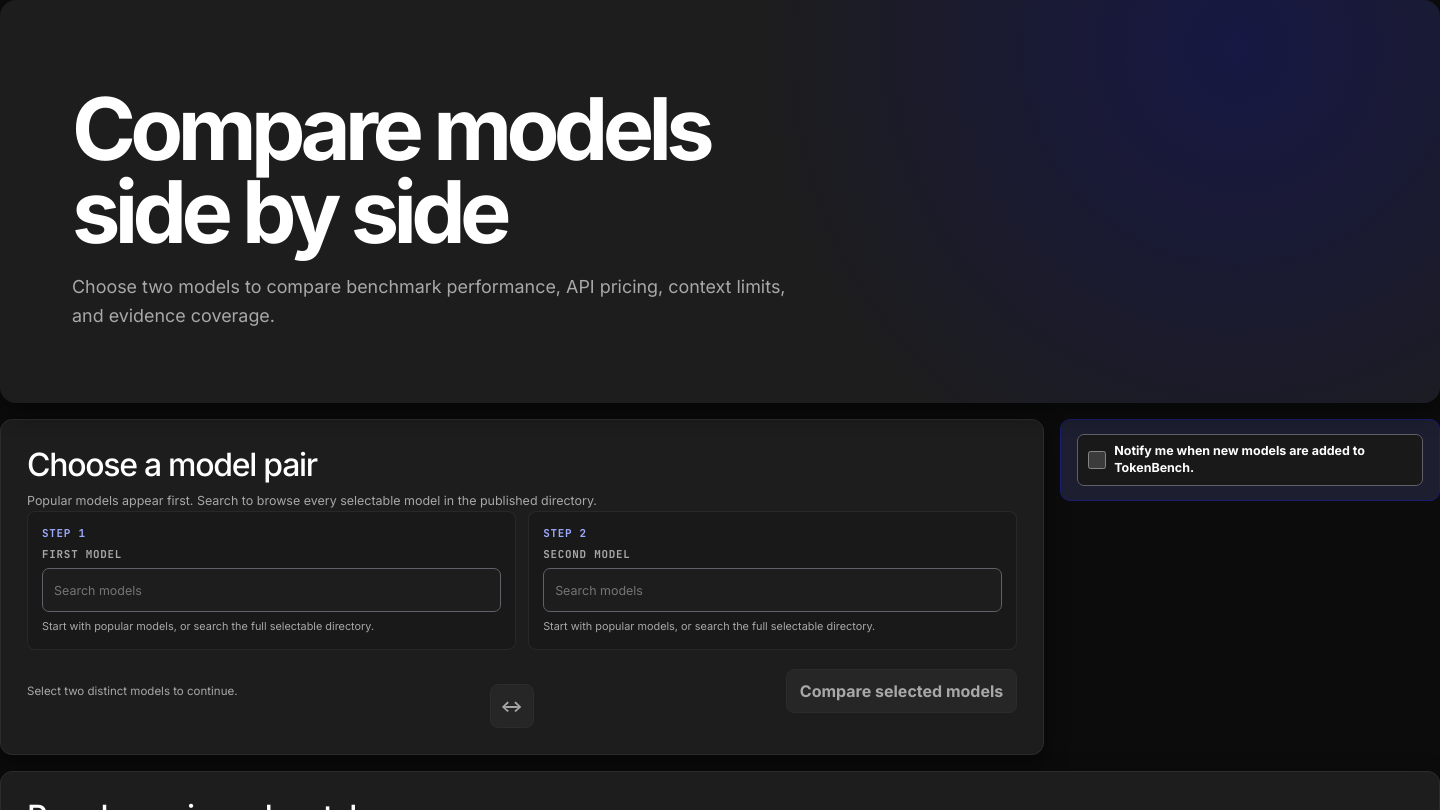
Test: compare hub › does not create a comparison navigation target until two distinct known models are selected
Type "model-a" into the dropdown labelled "First model" at (272, 590), box [42,568,501,612]
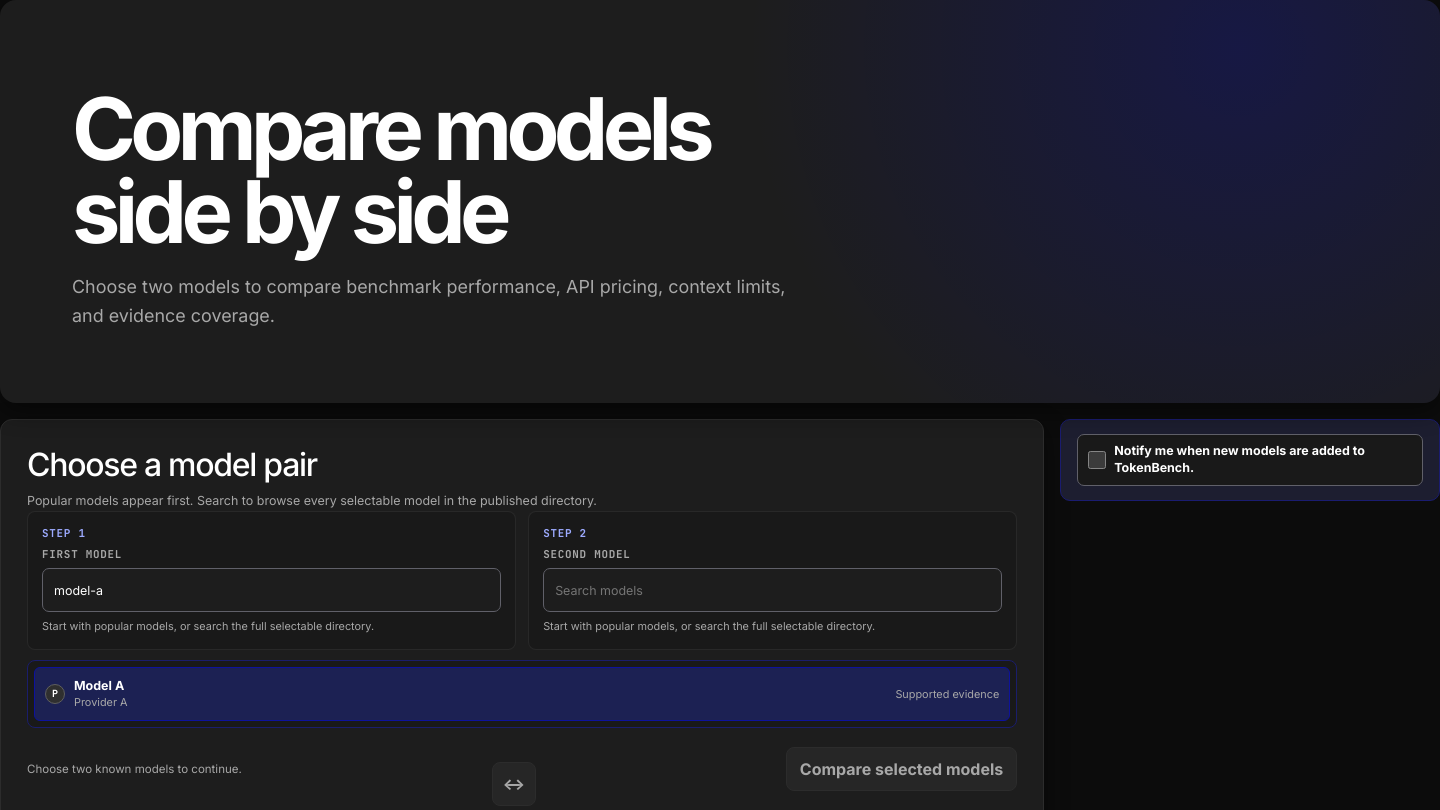
Type "model-a" into the dropdown labelled "Second model" at (773, 590), box [543,568,1002,612]
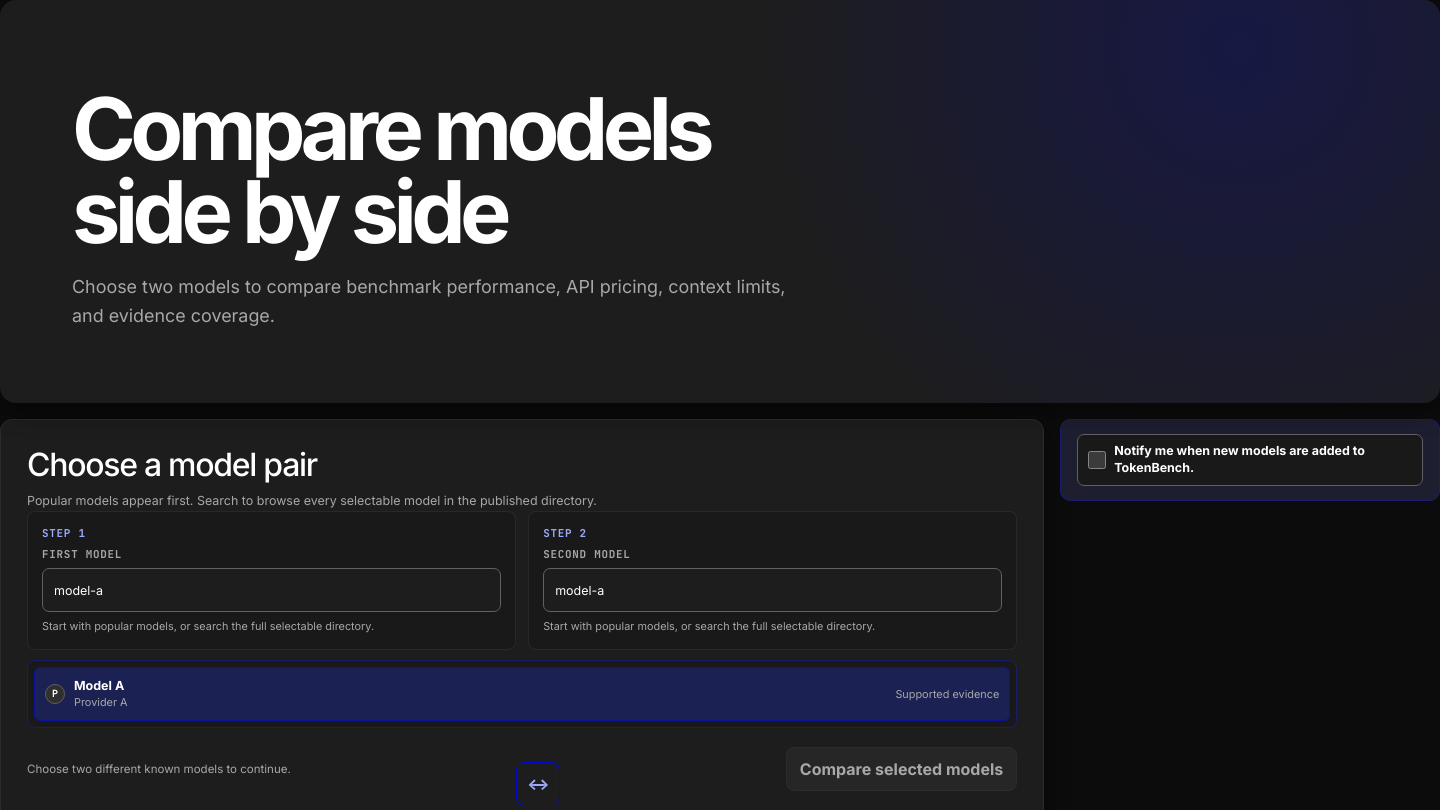
Result: the text "Choose two different known models to continue." is shown at [27,760,291,777]
